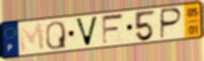5: (133, 9, 157, 42)
F: (101, 12, 126, 47)
M: (18, 22, 46, 55)
P: (159, 7, 184, 41)
Q: (45, 20, 68, 51)
V: (73, 15, 100, 48)
